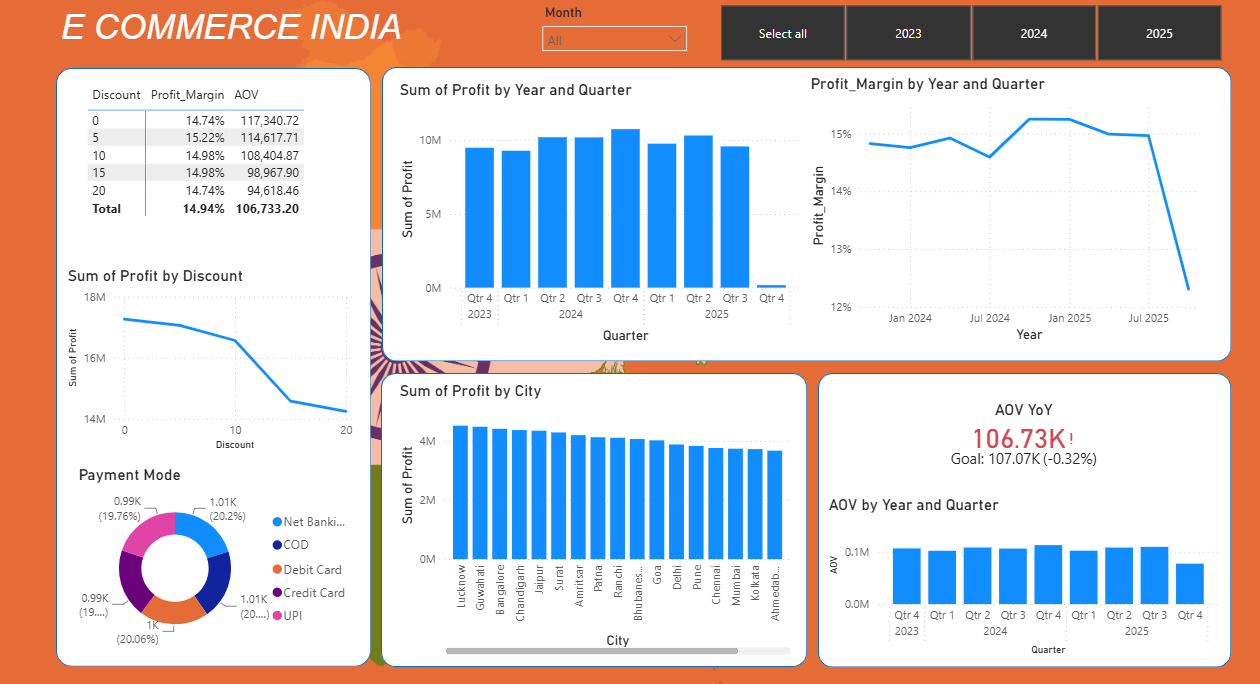

What the dashboard file says about the page in this screenshot:
{"tool":"powerbi","page":{"name":"Page 1","canvas":[1280,750],"ordinal":0},"visuals":[{"type":"image","box":[0,1.5,939.8,748.5],"z":0},{"type":"shape","box":[351.2,73.5,915.4,317.4],"z":1000},{"type":"shape","box":[0,73.9,339.3,645],"z":2000},{"type":"shape","box":[821.4,402.6,445.2,317.4],"z":3000},{"type":"shape","box":[350.5,402.6,459.2,316.8],"z":4000},{"type":"textbox","box":[0,4.6,587.8,68.9],"z":5000},{"type":"slicer","fields":{"Values":["ecommerce_sales_cleaned.year"]},"box":[690.3,0,589.3,73.5],"z":6000},{"type":"clusteredColumnChart","fields":{"Y":["Sum(ecommerce_sales_cleaned.Profit)"],"Category":["ecommerce_sales_cleaned.Order Date.Variation.Date Hierarchy.Year","ecommerce_sales_cleaned.Order Date.Variation.Date Hierarchy.Quarter"]},"box":[365.8,87.2,442.4,287.8],"z":7000},{"type":"lineChart","fields":{"Y":["ecommerce_sales_cleaned.Profit_Margin"],"Category":["ecommerce_sales_cleaned.Order Date.Variation.Date Hierarchy.Year","ecommerce_sales_cleaned.Order Date.Variation.Date Hierarchy.Quarter"]},"box":[808.2,81.1,439.3,293.9],"z":8000},{"type":"slicer","fields":{"Values":["ecommerce_sales_cleaned.Month"]},"box":[514.3,1.5,176,68.9],"z":9000},{"type":"clusteredColumnChart","fields":{"Category":["ecommerce_sales_cleaned.City"],"Y":["Sum(ecommerce_sales_cleaned.Profit)"]},"box":[365.8,411.7,431.6,300],"z":10000},{"type":"columnChart","fields":{"Category":["ecommerce_sales_cleaned.Order Date.Variation.Date Hierarchy.Year","ecommerce_sales_cleaned.Order Date.Variation.Date Hierarchy.Quarter"],"Y":["ecommerce_sales_cleaned.AOV"]},"box":[828.1,534.2,430.1,177.6],"z":11000},{"type":"kpi","title":"AOV YoY","fields":{"Indicator":["ecommerce_sales_cleaned.AOV"],"Goal":["ecommerce_sales_cleaned.AOV Last Year"],"TrendLine":["Calendar.Month Name"]},"box":[881.6,431.6,323,84.2],"z":12000},{"type":"pivotTable","fields":{"Values":["ecommerce_sales_cleaned.Profit_Margin","ecommerce_sales_cleaned.AOV"],"Rows":["ecommerce_sales_cleaned.Discount"]},"box":[29.1,87.2,298.5,183.7],"z":13000},{"type":"lineChart","fields":{"Category":["ecommerce_sales_cleaned.Discount"],"Y":["Sum(ecommerce_sales_cleaned.Profit)"]},"box":[7.7,287.8,319.9,203.6],"z":14000},{"type":"donutChart","title":"Payment Mode ","fields":{"Category":["ecommerce_sales_cleaned.Payment Mode"],"Y":["CountNonNull(ecommerce_sales_cleaned.Order ID)"]},"box":[19.9,502,307.6,203.6],"z":15000}]}

Visuals, with their boxes in screenshot pixels (x1, y1, x2, y2):
image: locate(52, 0, 927, 683)
shape: locate(379, 62, 1231, 357)
shape: locate(52, 62, 368, 662)
shape: locate(817, 368, 1231, 663)
shape: locate(379, 368, 806, 663)
textbox: locate(52, 0, 599, 62)
slicer - ecommerce_sales_cleaned.year: locate(695, 0, 1243, 62)
clusteredColumnChart - Sum(ecommerce_sales_cleaned.Profit) x ecommerce_sales_cleaned.Order Date.Variation.Date Hierarchy.Year: locate(393, 75, 804, 342)
lineChart - ecommerce_sales_cleaned.Profit_Margin x ecommerce_sales_cleaned.Order Date.Variation.Date Hierarchy.Year: locate(804, 69, 1213, 342)
slicer - ecommerce_sales_cleaned.Month: locate(531, 0, 695, 59)
clusteredColumnChart - ecommerce_sales_cleaned.City x Sum(ecommerce_sales_cleaned.Profit): locate(393, 376, 794, 656)
columnChart - ecommerce_sales_cleaned.Order Date.Variation.Date Hierarchy.Year x ecommerce_sales_cleaned.Order Date.Variation.Date Hierarchy.Quarter: locate(823, 490, 1223, 656)
"AOV YoY" kpi: locate(873, 395, 1173, 473)
pivotTable - ecommerce_sales_cleaned.Profit_Margin x ecommerce_sales_cleaned.AOV: locate(80, 75, 357, 245)
lineChart - ecommerce_sales_cleaned.Discount x Sum(ecommerce_sales_cleaned.Profit): locate(60, 261, 357, 451)
"Payment Mode " donutChart: locate(71, 461, 357, 650)
